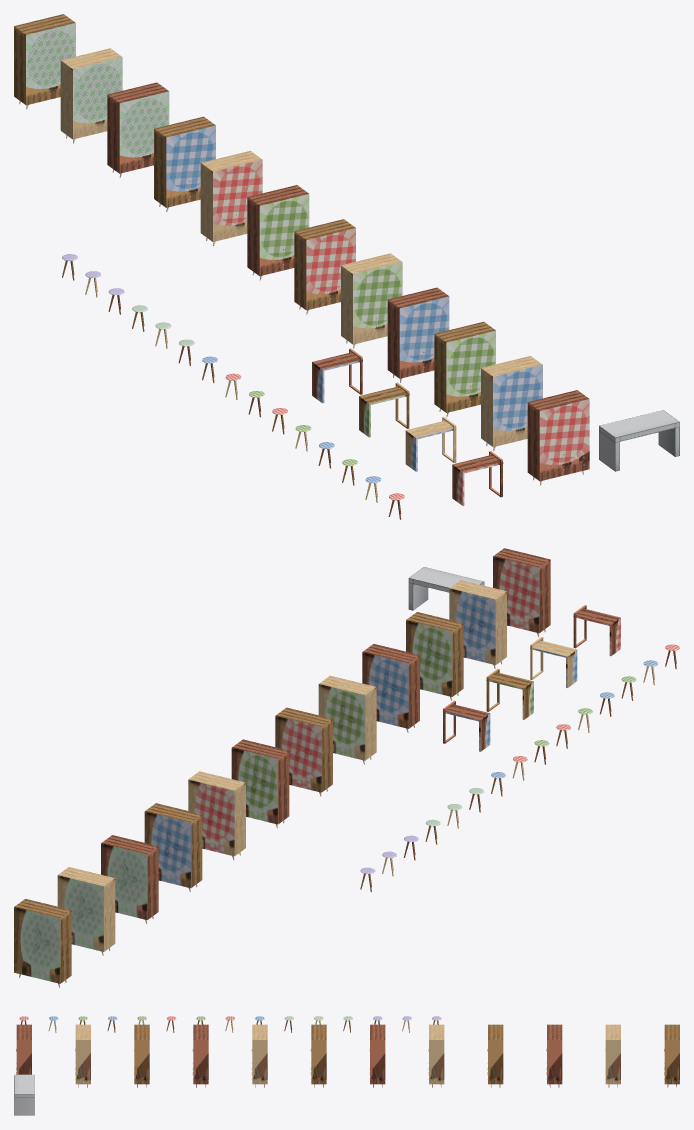
Rendered from moveis.fbx.
The picture shows the model from 3 angles, top to bottom: view 1: azimuth 30°, elevation 25°; view 2: azimuth 150°, elevation 25°; view 3: azimuth 270°, elevation 25°; orthographic projection. The views are drawn at different scales.
Visible parts, largest first — view 1: Armario01-01, Armario01-07, Armario01-11, Armario01-08, Armario01-04, Armario01-10, Armario01-02, Armario01-05, Armario01-09, Armario01-12, Armario01-06, Armario01-03 (+5 smaller); view 2: Armario01-12, Armario01-09, Armario01-11, Armario01-05, Armario01-07, Armario01-01, Armario01-08, Armario01-06, Armario01-03, Armario01-02, Armario01-04, Armario01-10 (+5 smaller); view 3: Armario01-10, Armario01-09, Armario01-08, Armario01-06, Armario01-05, Armario01-04, Armario01-07, Armario01-11, Armario01-03, Armario01-12, Armario01-02, Aparador01-01 (+1 smaller).
Part boxes in pixels (bbox=[...]): Armario01-01: bbox=[527, 390, 589, 485]; Armario01-07: bbox=[247, 185, 309, 280]; Armario01-11: bbox=[60, 48, 122, 143]; Armario01-08: bbox=[200, 150, 262, 246]; Armario01-04: bbox=[387, 287, 449, 382]; Armario01-10: bbox=[107, 82, 169, 177]; Armario01-02: bbox=[481, 356, 542, 451]; Armario01-05: bbox=[341, 253, 402, 348]; Armario01-09: bbox=[154, 116, 215, 211]; Armario01-12: bbox=[14, 14, 75, 109]; Armario01-06: bbox=[294, 219, 355, 314]; Armario01-03: bbox=[434, 321, 495, 416]; Armario01-12: bbox=[14, 899, 71, 987]; Armario01-09: bbox=[144, 803, 202, 891]; Armario01-11: bbox=[57, 867, 115, 955]; Armario01-05: bbox=[318, 675, 376, 764]; Armario01-07: bbox=[231, 739, 289, 828]; Armario01-01: bbox=[493, 548, 550, 637]; Armario01-08: bbox=[188, 771, 245, 860]; Armario01-06: bbox=[275, 707, 332, 796]; Armario01-03: bbox=[406, 612, 463, 700]; Armario01-02: bbox=[449, 580, 506, 668]; Armario01-04: bbox=[362, 644, 419, 732]; Armario01-10: bbox=[101, 835, 158, 923]; Armario01-10: bbox=[546, 1024, 562, 1087]; Armario01-09: bbox=[487, 1024, 503, 1087]; Armario01-08: bbox=[428, 1024, 444, 1087]; Armario01-06: bbox=[310, 1024, 326, 1087]; Armario01-05: bbox=[251, 1024, 267, 1087]; Armario01-04: bbox=[192, 1024, 208, 1087]; Armario01-07: bbox=[369, 1024, 385, 1087]; Armario01-11: bbox=[605, 1024, 620, 1087]; Armario01-03: bbox=[134, 1024, 149, 1087]; Armario01-12: bbox=[664, 1024, 679, 1087]; Armario01-02: bbox=[75, 1024, 90, 1087]; Aparador01-01: bbox=[14, 1074, 34, 1115].
Bounding box in the file's own units: 697 × 182 × 2261.
